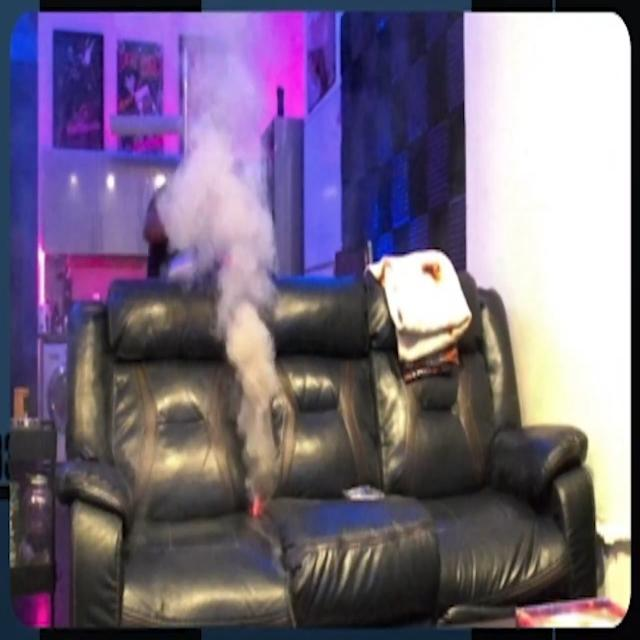Smoke: (165, 63, 298, 460)
